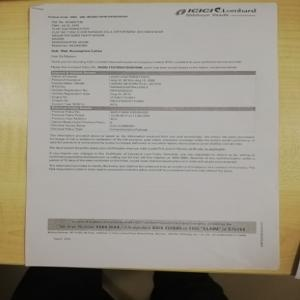image: (172, 3, 260, 21)
text: (49, 16, 243, 69), (45, 133, 258, 173), (51, 75, 163, 109), (47, 108, 151, 136)
